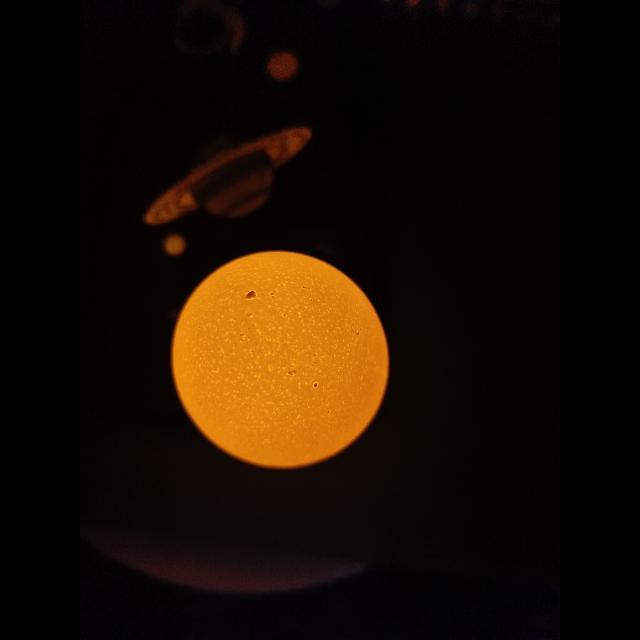AA - Premium: (173, 251, 389, 468)
